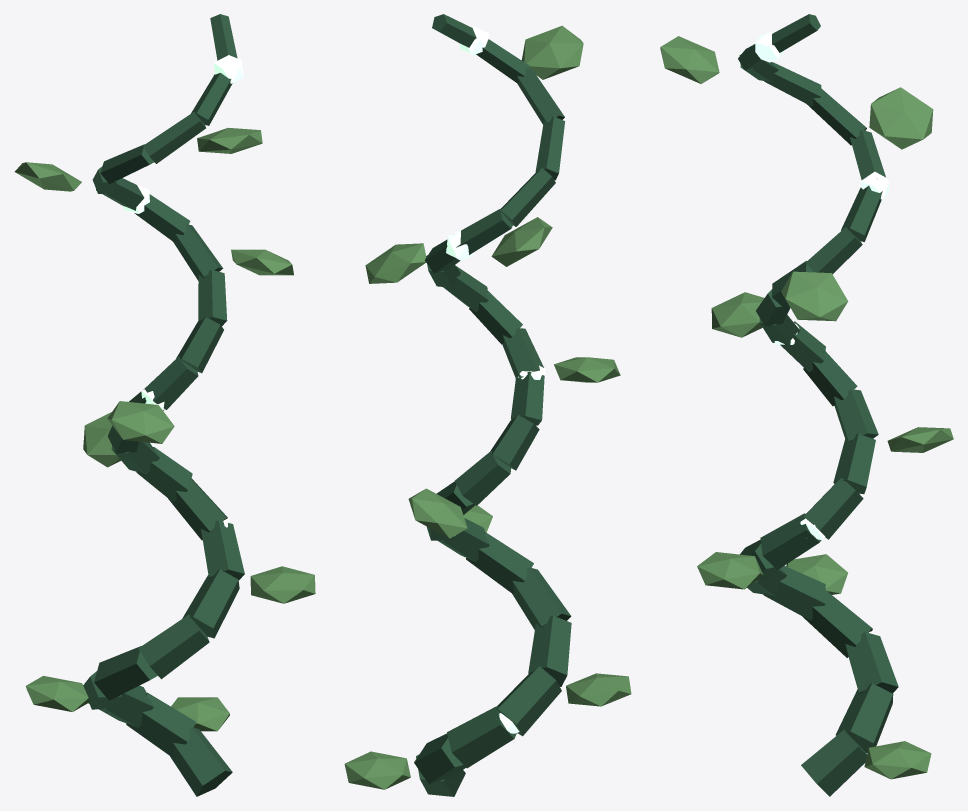
File: liane.glb
3 views of the same model, side by side, from view 1: azimuth 30°, elevation 25°; view 2: azimuth 150°, elevation 25°; view 3: azimuth 270°, elevation 25° (orthographic).
Visible parts, largest first — view 1: liane; view 2: liane; view 3: liane.
Boxes of the visible parts, bbox=[...] form: liane: bbox=[14, 14, 315, 796]; liane: bbox=[344, 14, 631, 796]; liane: bbox=[660, 14, 953, 796].
Bounding box in the file's own units: 0.7192 × 2.05 × 0.7007.
